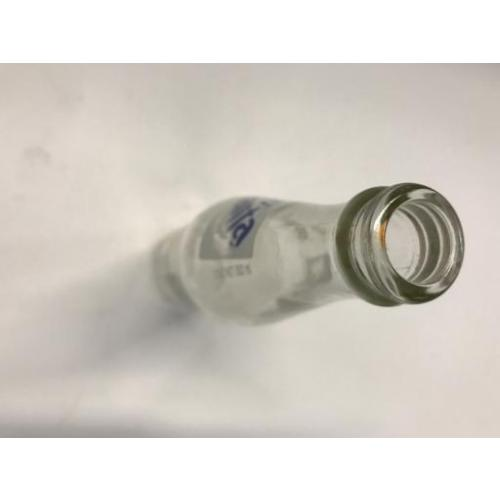glass: (181, 180, 464, 330)
